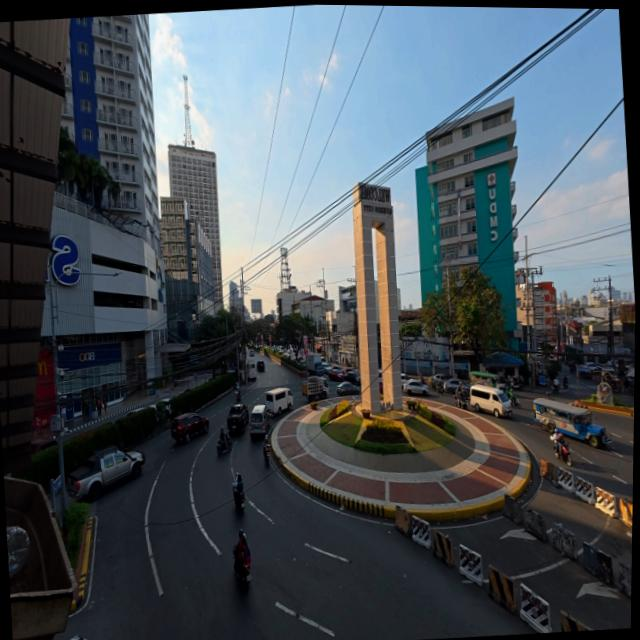car: (167, 411, 210, 446), (223, 403, 248, 438), (402, 377, 429, 396), (335, 381, 359, 397)
vans: (467, 382, 513, 420)
